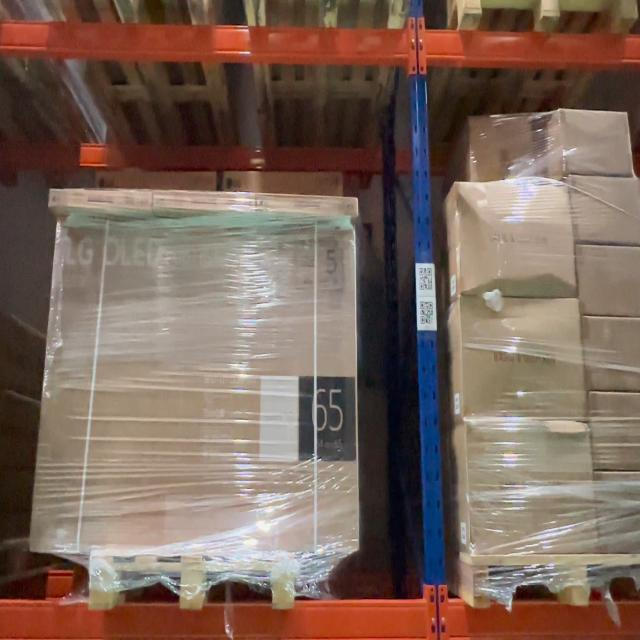box: (59, 222, 354, 538), (155, 190, 253, 212), (257, 192, 356, 212), (47, 190, 151, 208)
